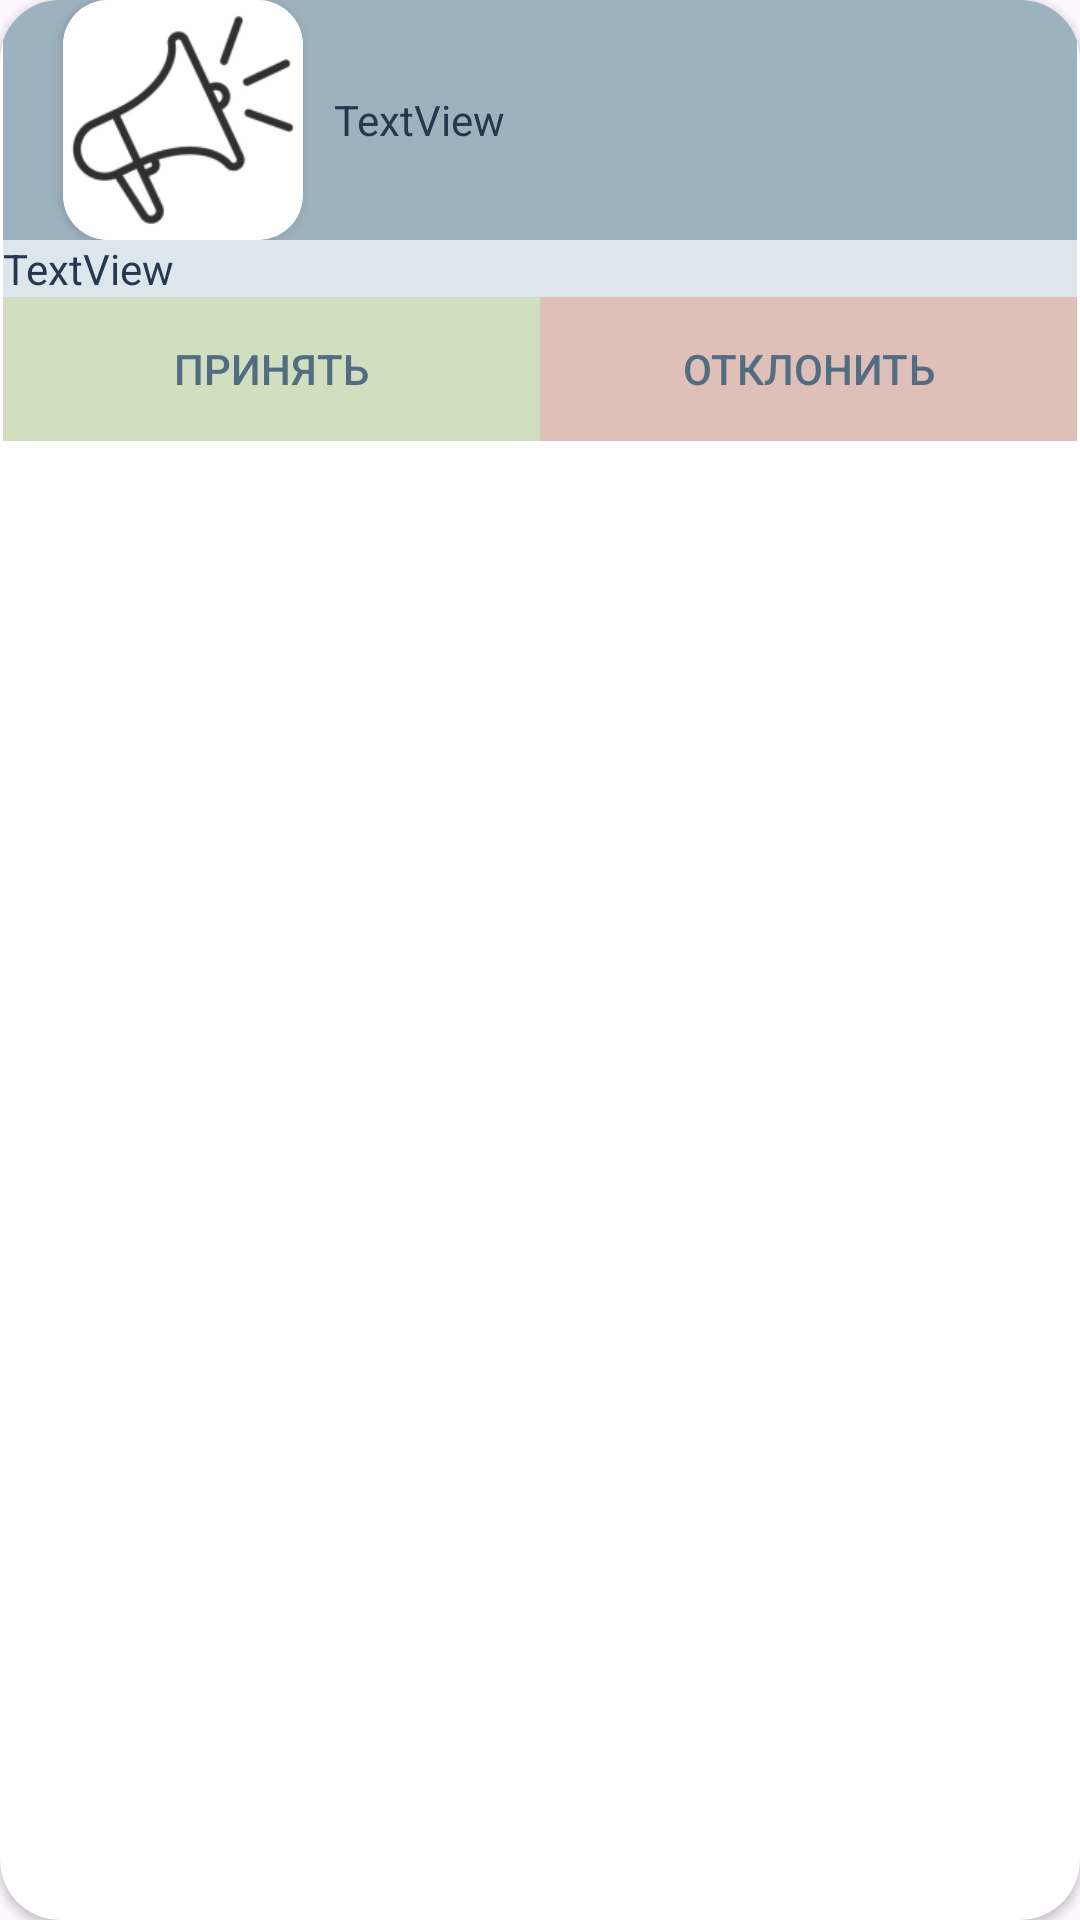

Where to tap for icons on this 1080px×1920px app screen, as (x,y):
channel: (183,120)
